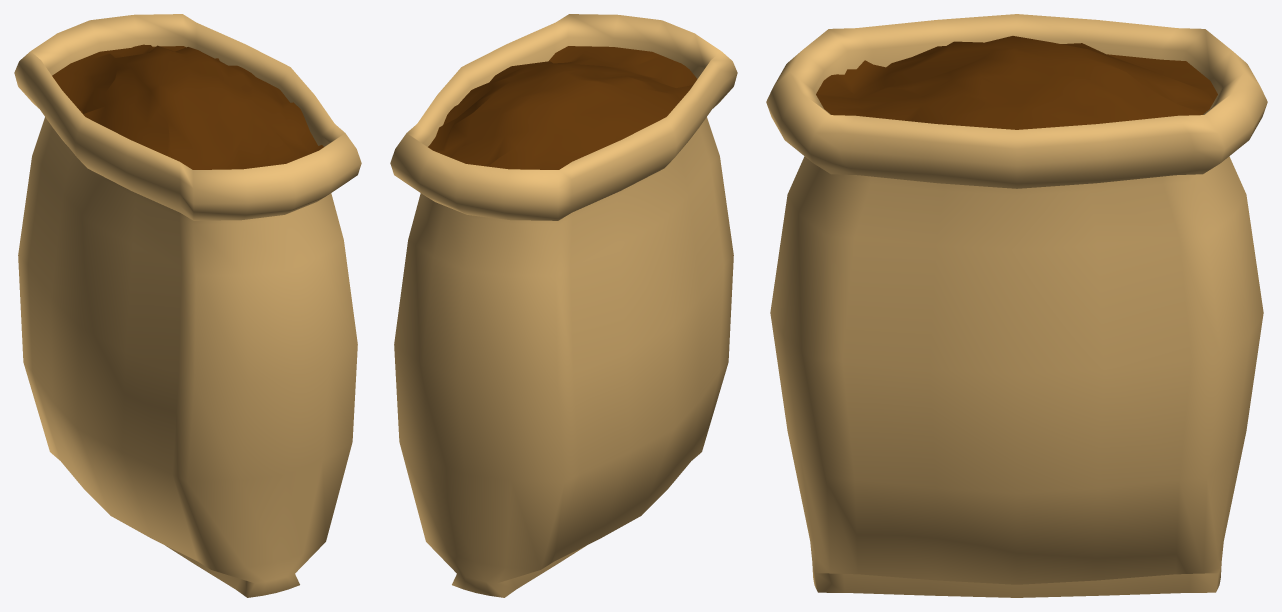
File: pupuk.fbx
The picture shows the model from 3 angles, left to right: view 1: azimuth 30°, elevation 25°; view 2: azimuth 150°, elevation 25°; view 3: azimuth 270°, elevation 25°; orthographic projection. The views are drawn at different scales.
Parts seen in each view (by area): view 1: Cube, Plane; view 2: Cube, Plane; view 3: Cube, Plane.
Boxes of the visible parts, x1,y1,x2,y2 form: Cube: (14,14,361,597); Plane: (52,44,323,169); Cube: (390,14,737,597); Plane: (428,46,697,169); Cube: (766,14,1267,597); Plane: (816,36,1217,129).
Bounding box in the file's own units: 162 × 312 × 268.
